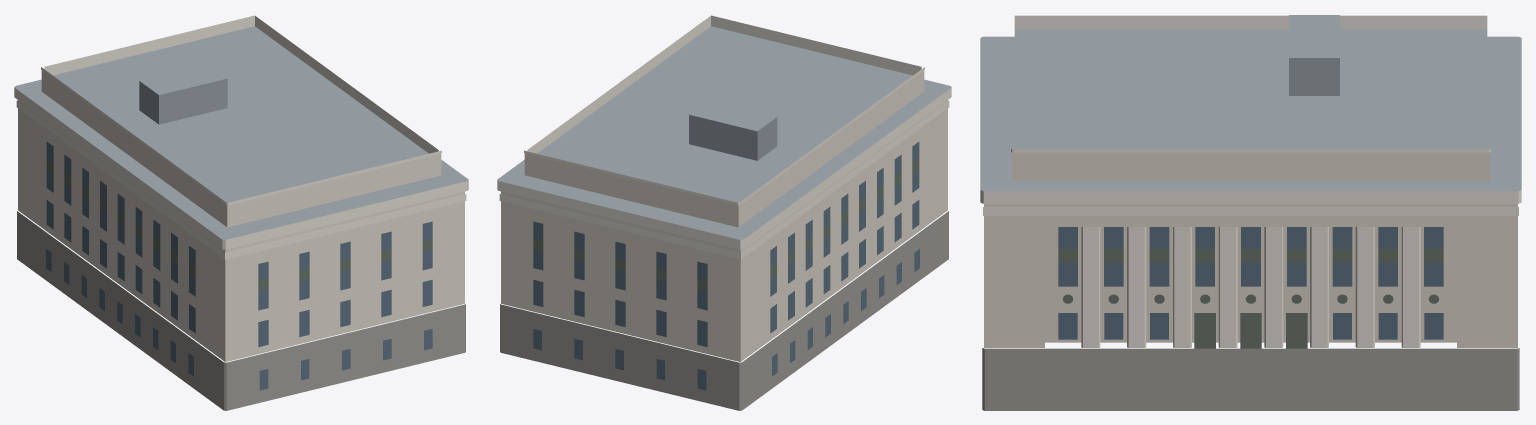
Rendered from nash-tennessee-supreme-court.glb.
The picture shows the model from 3 angles, left to right: view 1: azimuth 30°, elevation 25°; view 2: azimuth 150°, elevation 25°; view 3: azimuth 270°, elevation 25°; orthographic projection. The views are drawn at different scales.
Parts seen in each view (by area): view 1: Tennessee Supreme Court Building; view 2: Tennessee Supreme Court Building; view 3: Tennessee Supreme Court Building.
Boxes of the visible parts, bbox=[...] form: Tennessee Supreme Court Building: bbox=[14, 15, 468, 410]; Tennessee Supreme Court Building: bbox=[497, 15, 951, 410]; Tennessee Supreme Court Building: bbox=[980, 15, 1521, 410].
Bounding box in the file's own units: 28.8 × 24.1 × 42.6.
